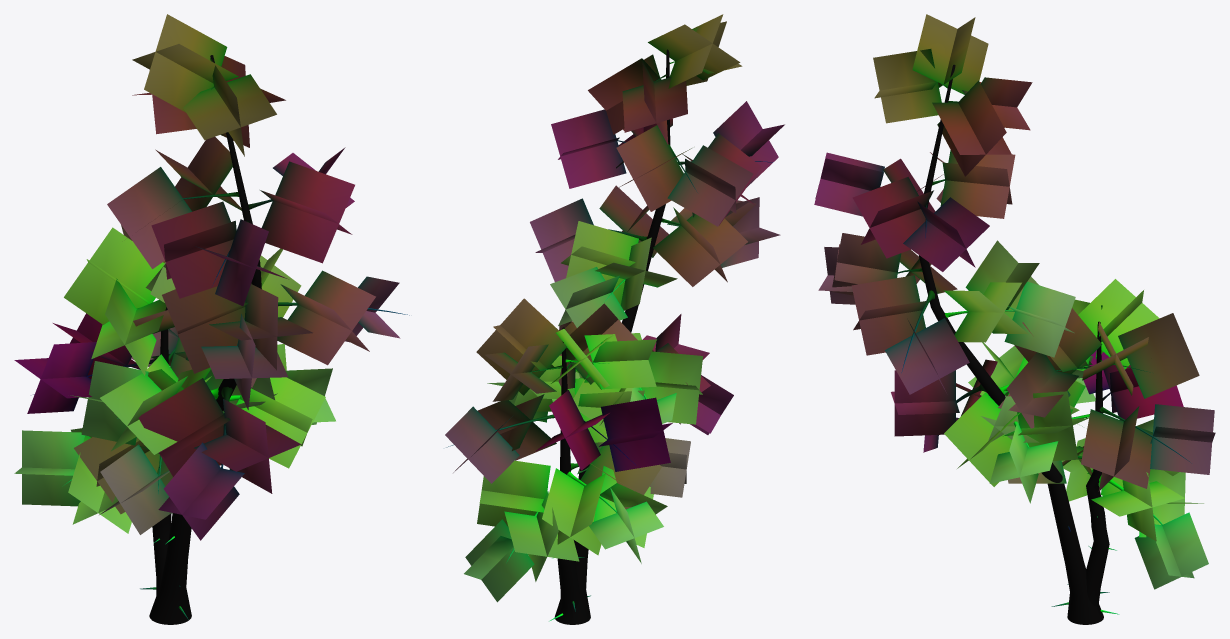
File: URP_P7_Tree_9_LOD_0.fbx
3 renders of one model, left to right at view 1: azimuth 30°, elevation 25°; view 2: azimuth 150°, elevation 25°; view 3: azimuth 270°, elevation 25°, orthographic. The views are drawn at different scales.
Parts seen in each view (by area): view 1: Tree_9_LOD_0; view 2: Tree_9_LOD_0; view 3: Tree_9_LOD_0.
Part boxes in pixels (box(x1,y1,x2,y2)): Tree_9_LOD_0: box(14, 14, 409, 624); Tree_9_LOD_0: box(445, 14, 784, 624); Tree_9_LOD_0: box(814, 14, 1215, 624).
Size of the model in its own units: 247 by 578 by 368.
